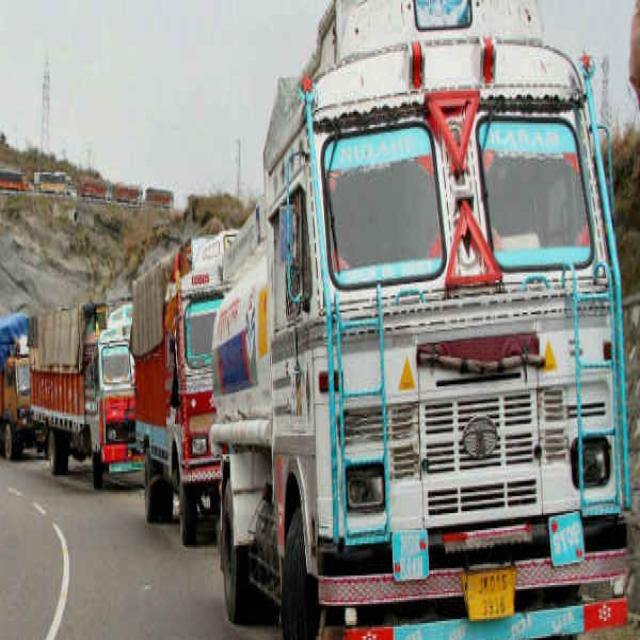truck: (211, 2, 629, 638), (131, 231, 235, 544), (31, 302, 144, 489)
